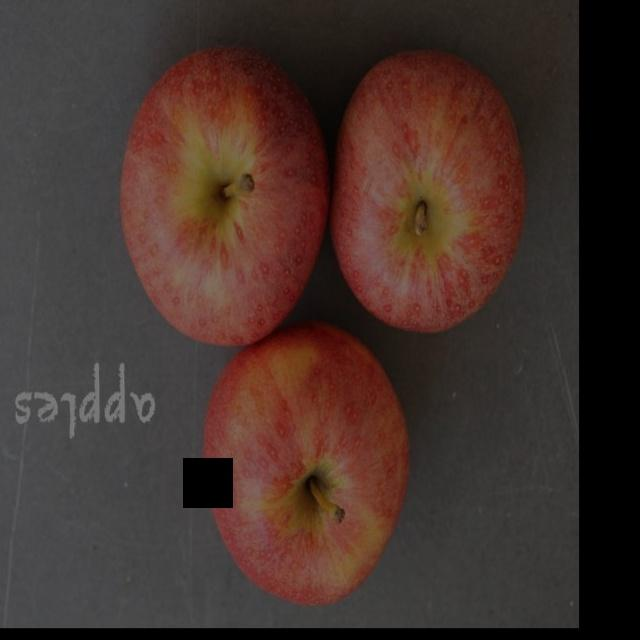red apple: (124, 41, 332, 353), (195, 324, 412, 607), (332, 46, 527, 329)
